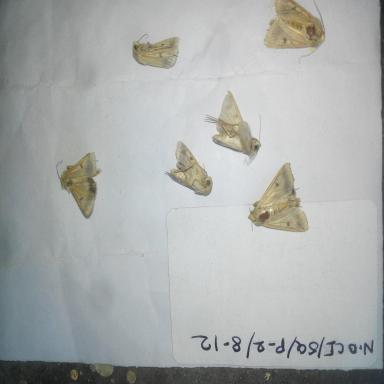abw: (200, 86, 264, 168), (247, 160, 313, 236), (258, 0, 328, 69), (52, 144, 104, 220), (160, 137, 215, 202), (127, 29, 184, 76)
